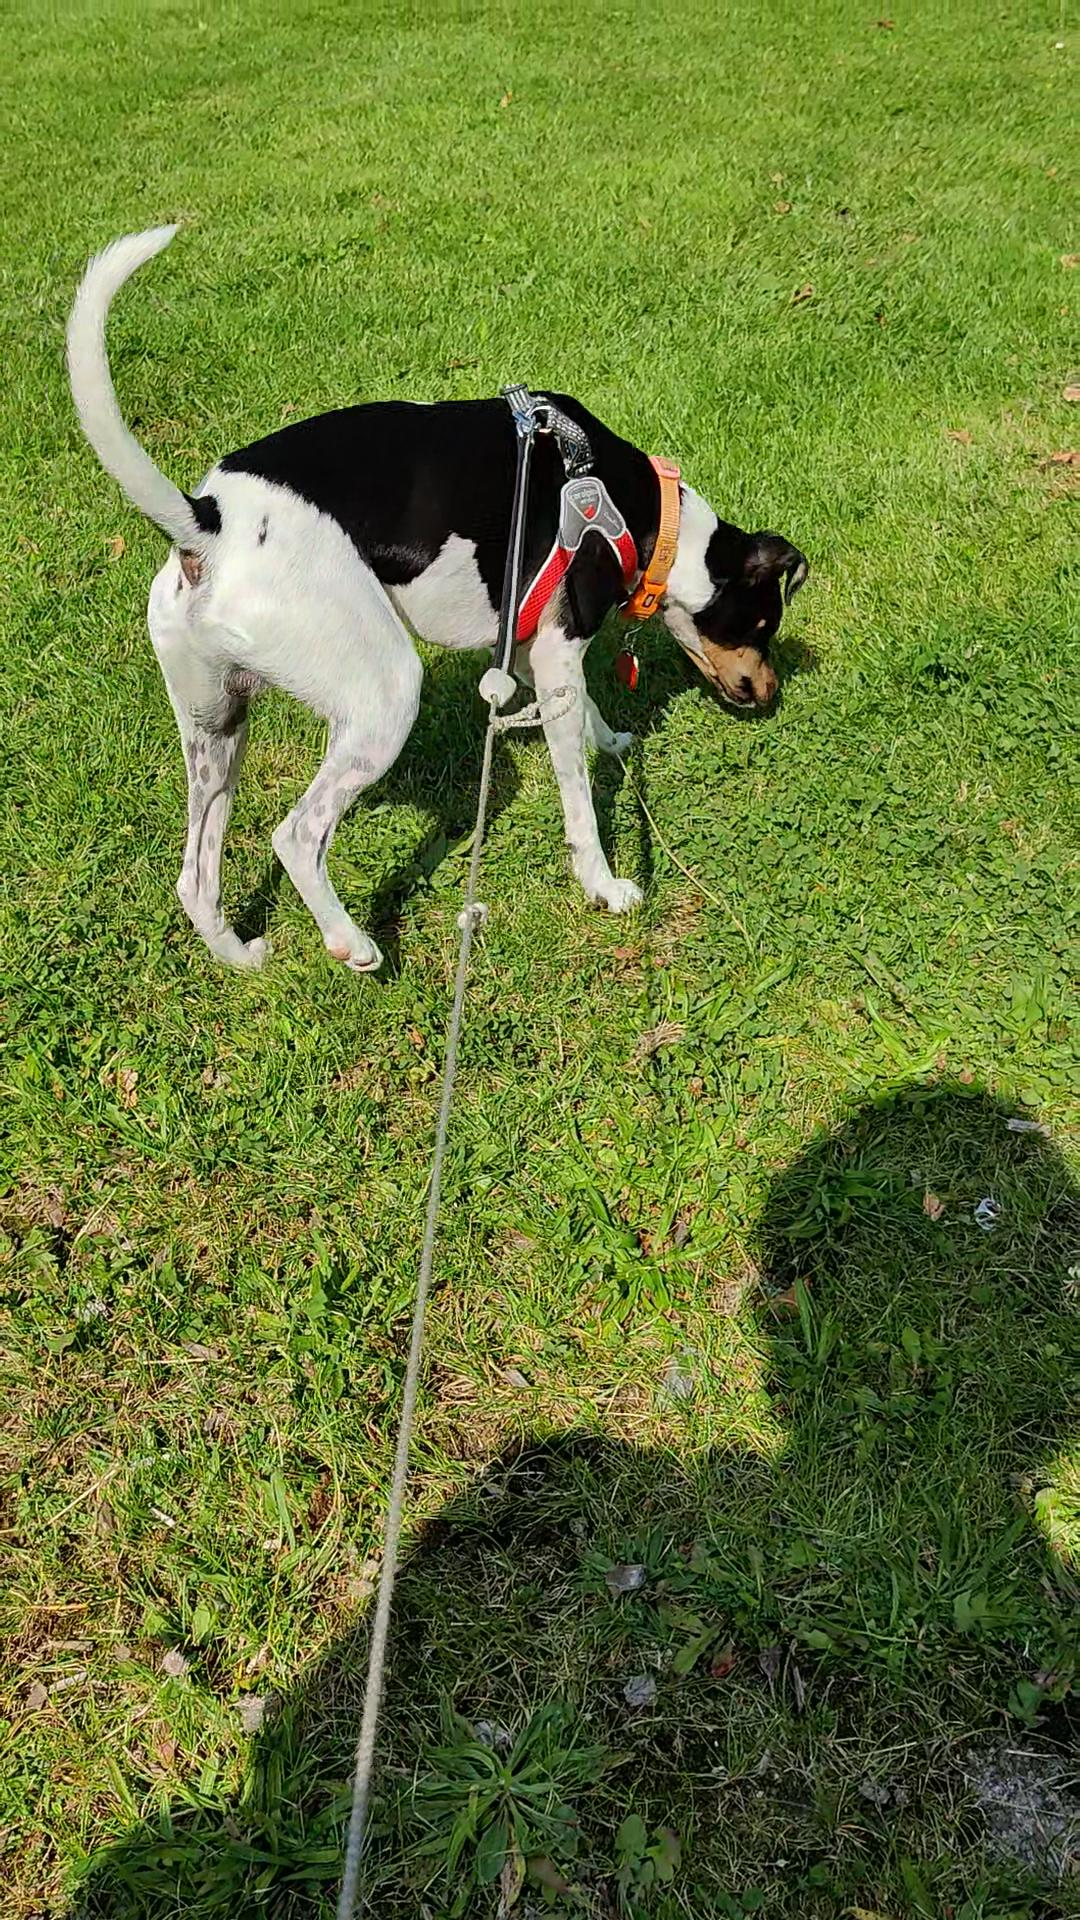Dog: (41, 211, 820, 985)
